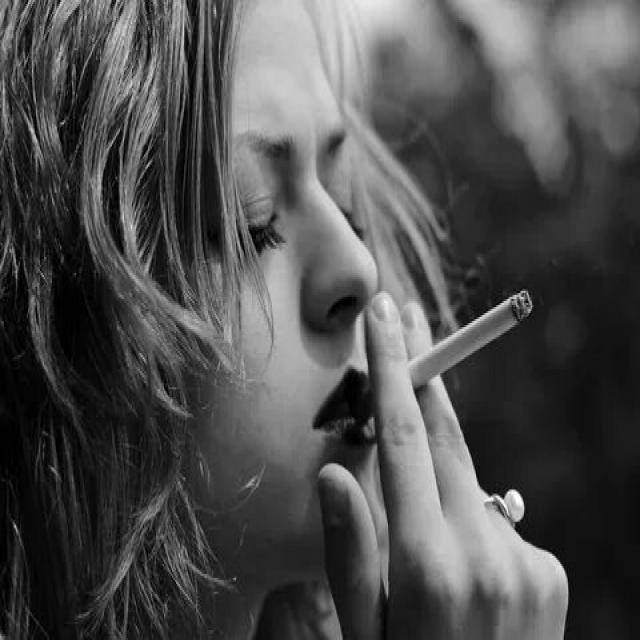cigarette: (402, 281, 538, 409)
